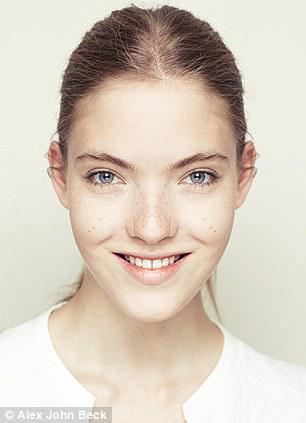Sober: (75, 103, 236, 308)
